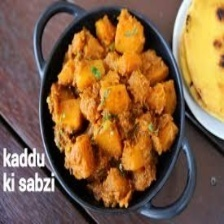roti: (175, 2, 224, 128)
